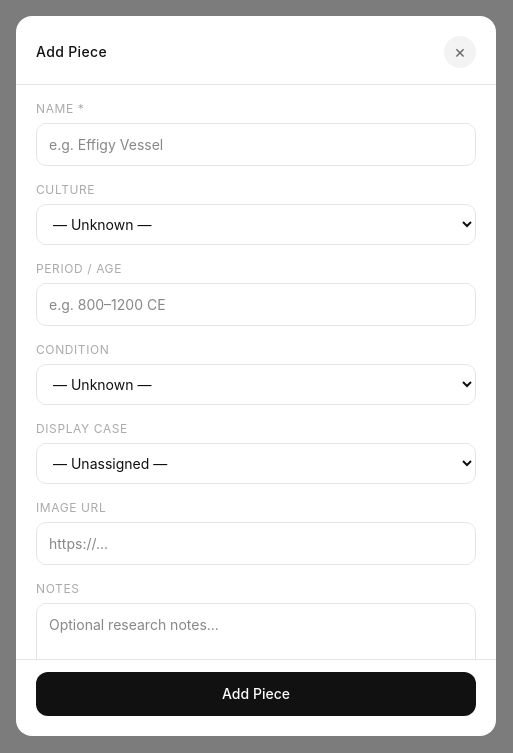
PieceModal › surfaces the error message when the save fails
In the field with placeholder "e.g. Effigy Vessel": [256, 144] box [36,123,476,166], type "Broken Piece"
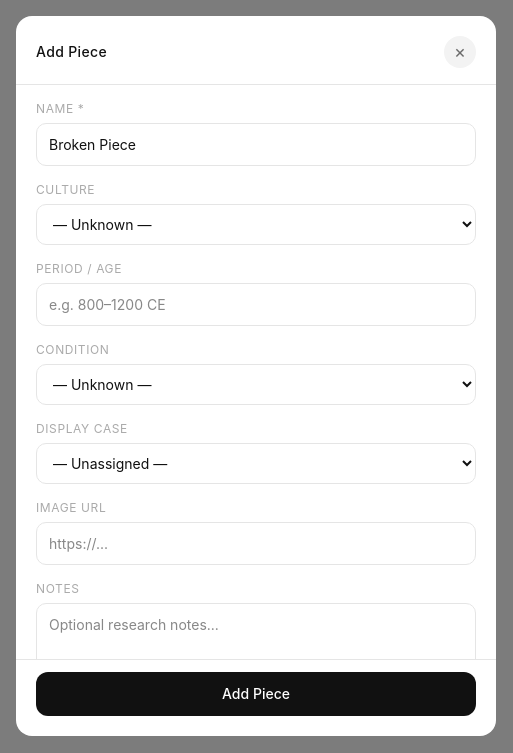
Click the button "Add Piece": [256, 694] box [36,672,476,716]
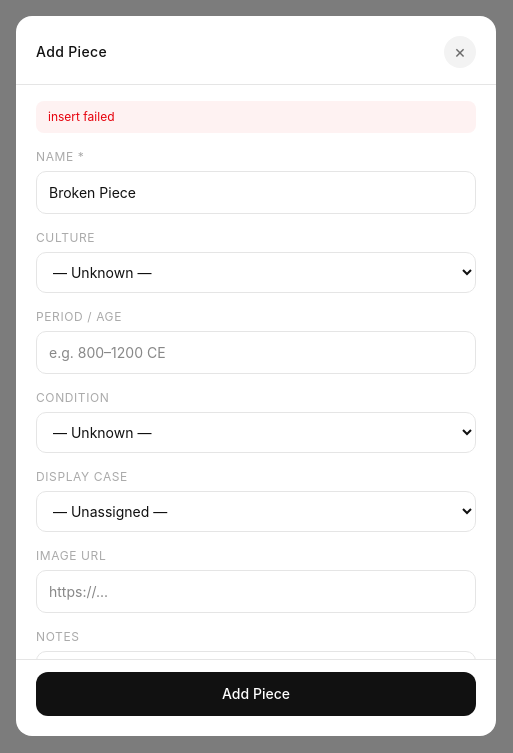
Expected: the text "insert failed" is shown, [36,101,476,133]
